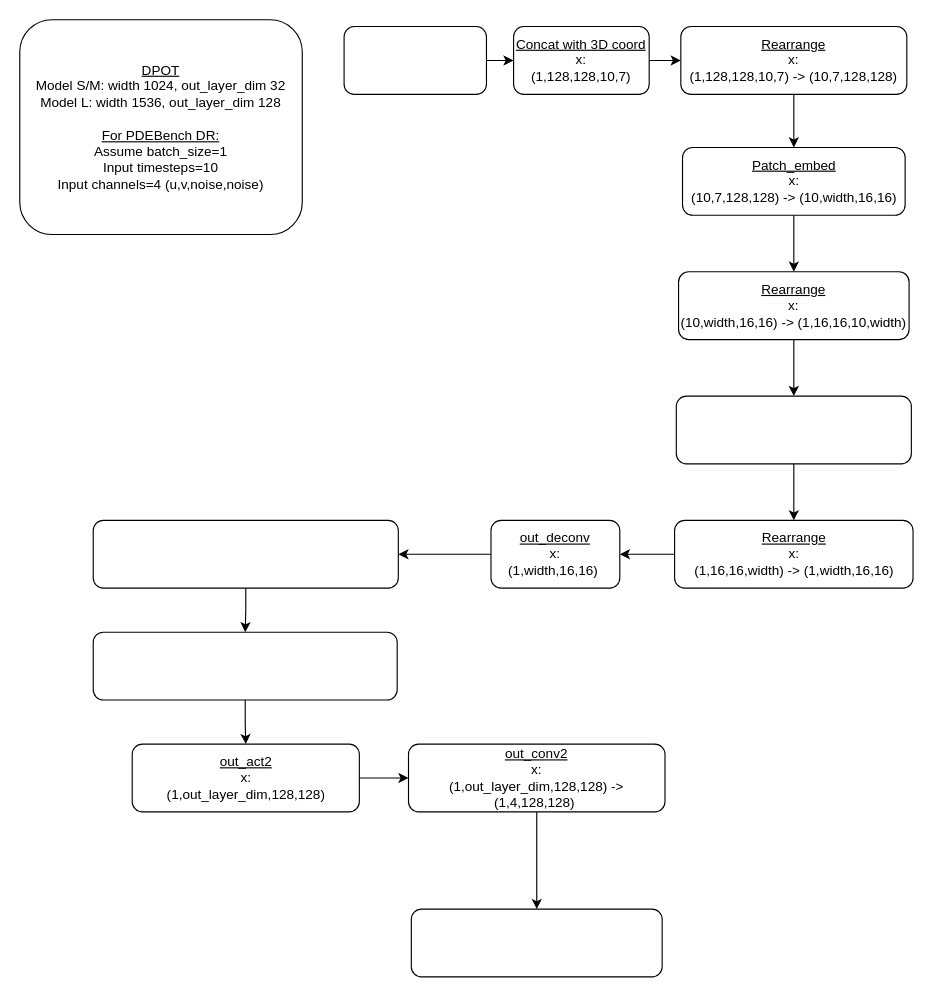
Image size: 933x997. Some labels were removed from this diagram. The centre of each missing label's shape, as x and y in pixels:
"Input x: (1, 128,128, 10, 4)" belongs at point 414,59.
"out_act1 x: (1,width,16,16) -> (1, out_layer_dim,128,128)" belongs at point 245,553.
"out_conv1 x: (1,out_layer_dim,128,128) -> (1,out_layer_dim,128,128)" belongs at point 244,665.
"Permute and Reshape output x: (1,4,128,128) -> (1,128,128,1,4)" belongs at point 536,942.
"time_agg_layer x: (1,16,16,10,width) -> (1,16,16,width)" belongs at point 793,429.
